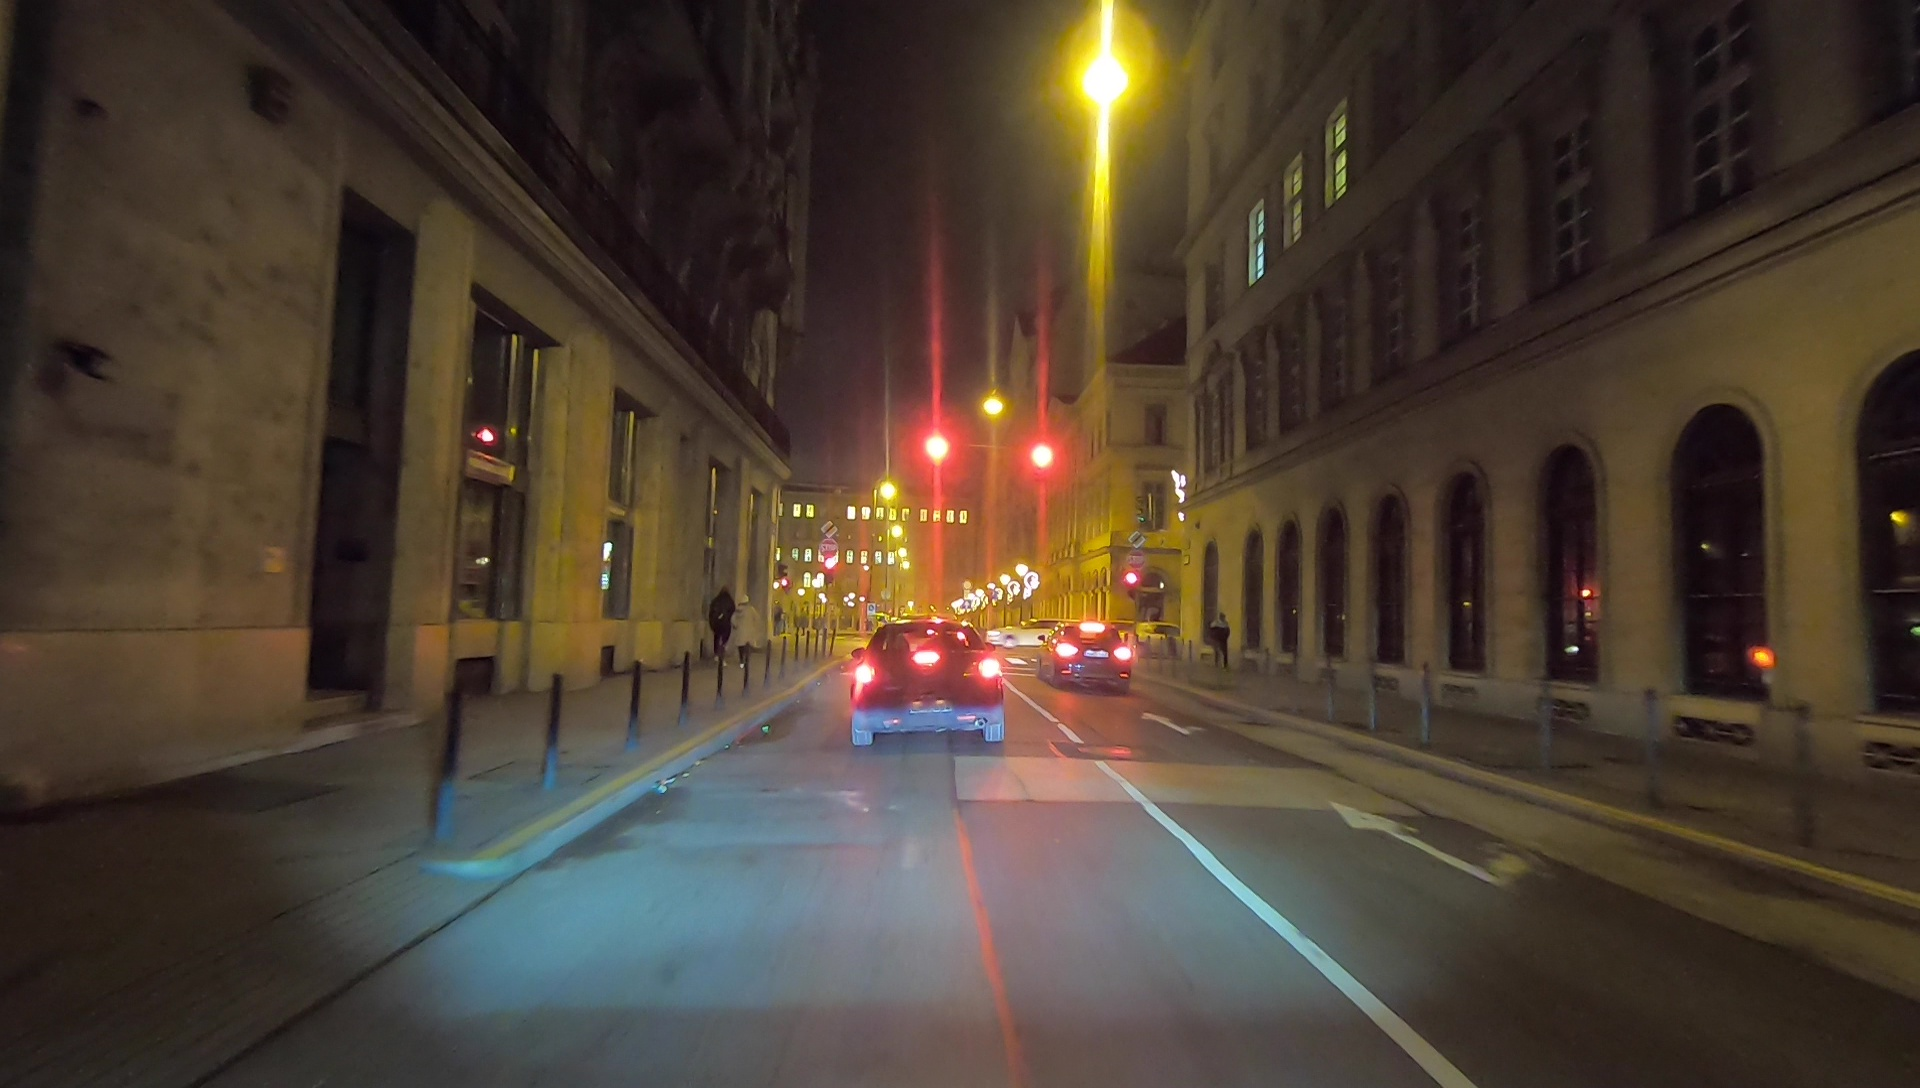person: (706, 586, 732, 660), (1202, 613, 1236, 671)
